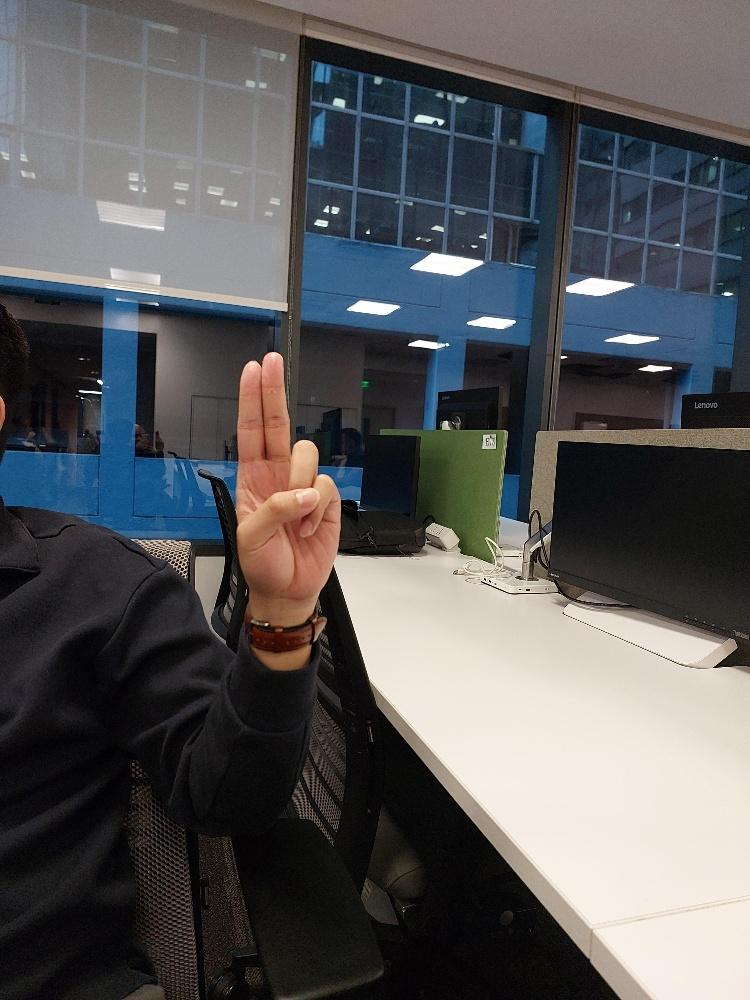u: (236, 352, 339, 596)
